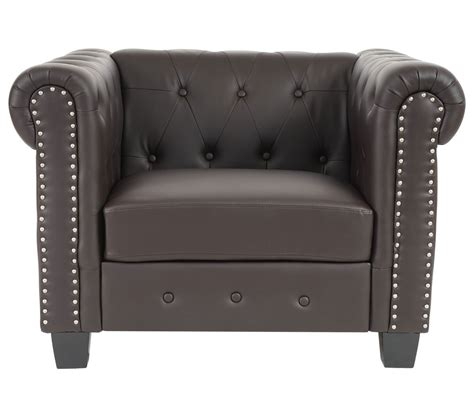cuero: (8, 44, 465, 336)
